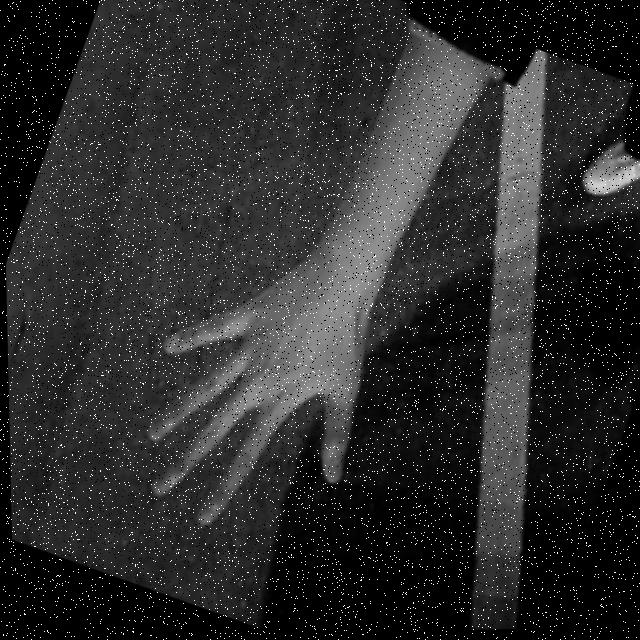hand: (99, 238, 407, 574)
